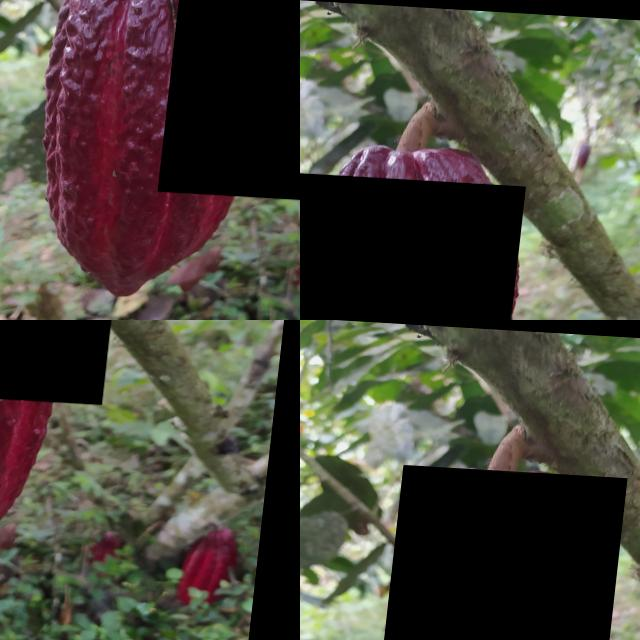Sana: (374, 462, 630, 640), (300, 166, 529, 320), (167, 0, 300, 196), (0, 320, 124, 398)
